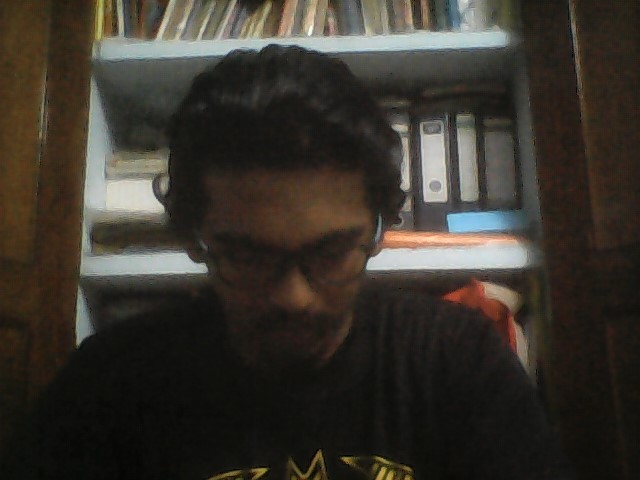person: (91, 41, 519, 479)
